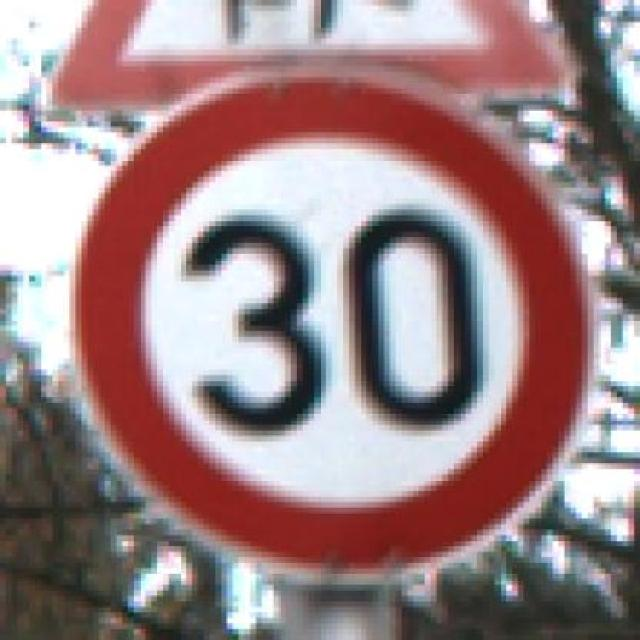Speed Limit 30 KMPh: (29, 55, 617, 574)
